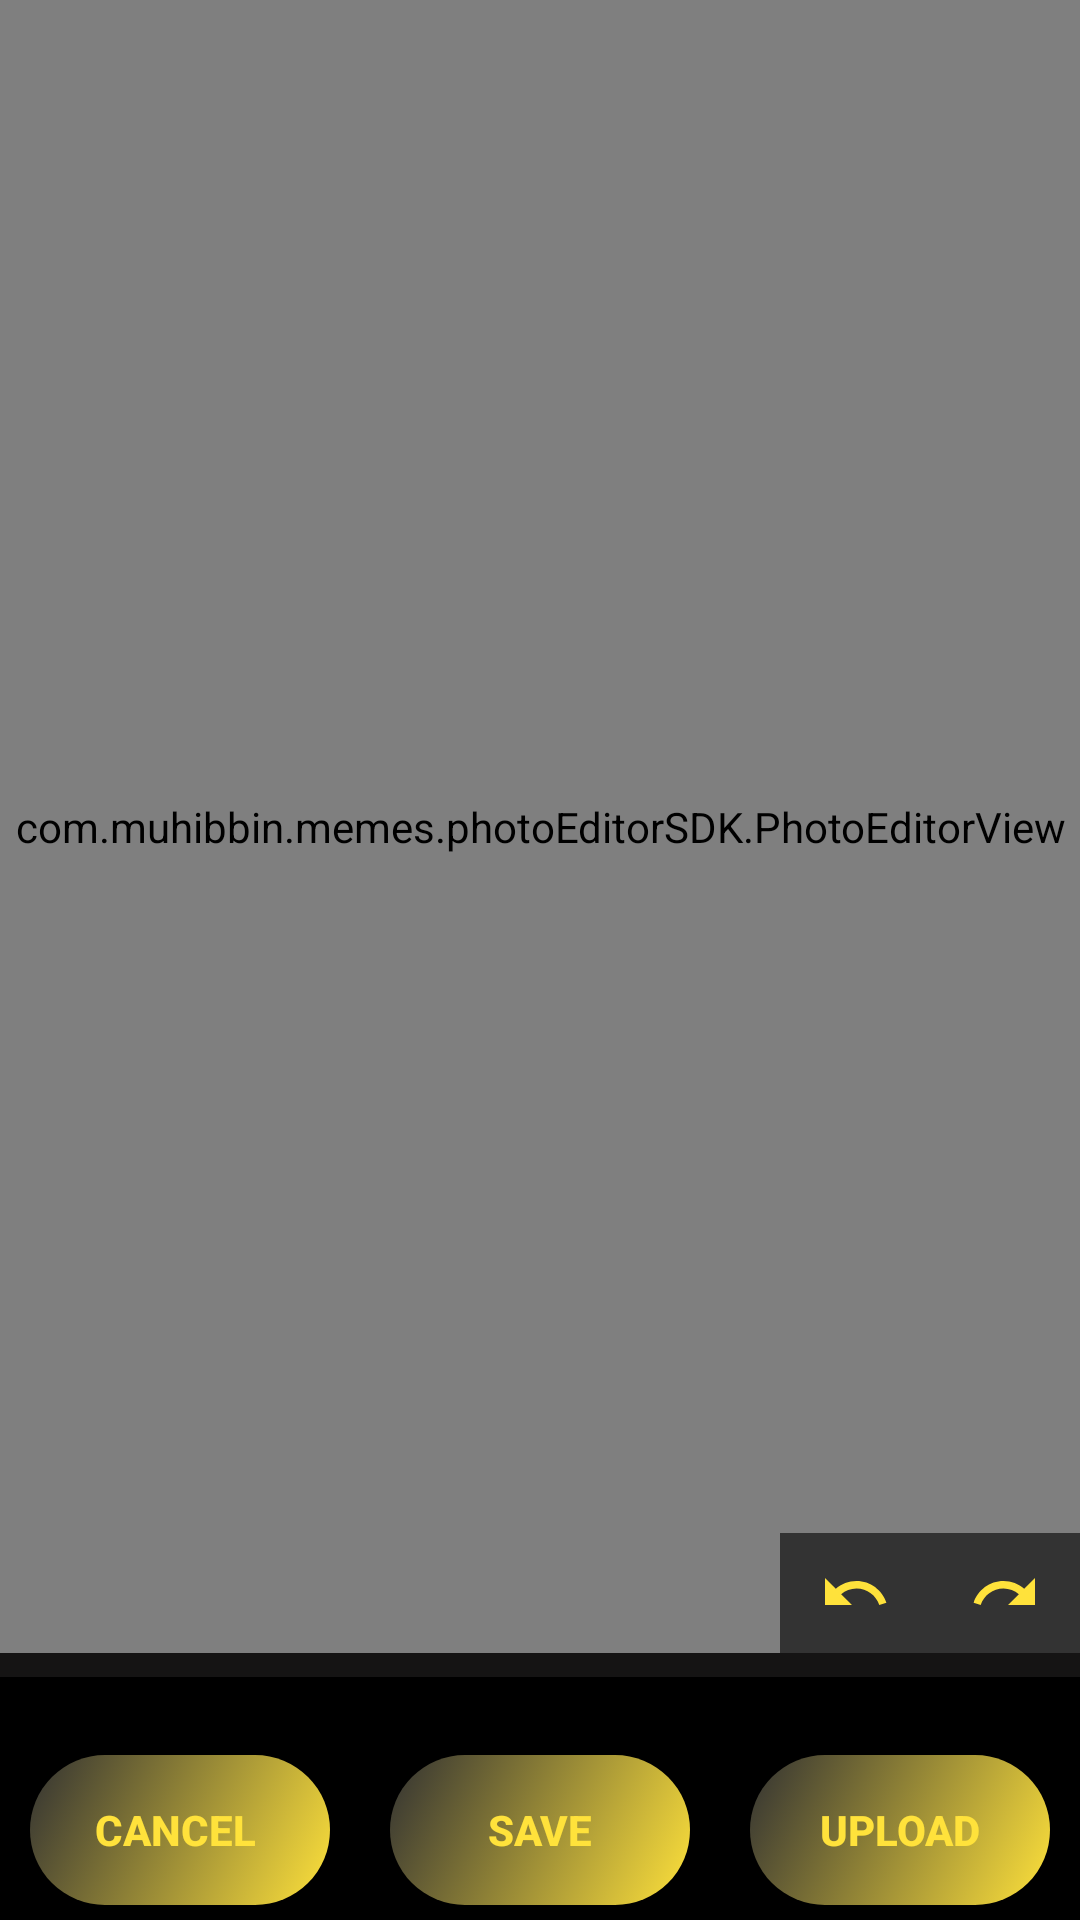

Icon click points for this 1080×1920 phone screenshot, format point (x, y):
redo: point (1004, 1591)
undo: point (855, 1593)
